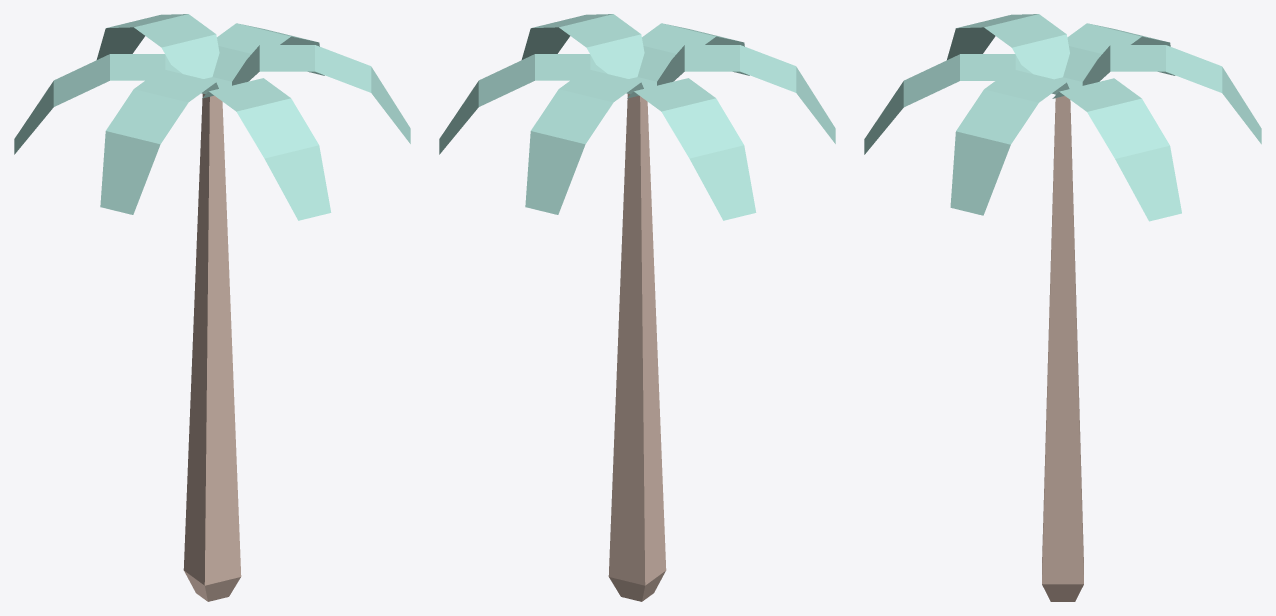
The model's file is nature-tree_palm.glb.
The picture shows the model from 3 angles, left to right: view 1: azimuth 30°, elevation 25°; view 2: azimuth 150°, elevation 25°; view 3: azimuth 270°, elevation 25°; orthographic projection.
Visible parts, largest first — view 1: tree_palm; view 2: tree_palm; view 3: tree_palm.
Part boxes in pixels (x1,y1,x2,y2): tree_palm: [14, 14, 410, 601]; tree_palm: [439, 14, 835, 601]; tree_palm: [864, 14, 1261, 601].
Bounding box in the file's own units: 0.9355 × 1.51 × 1.01.
